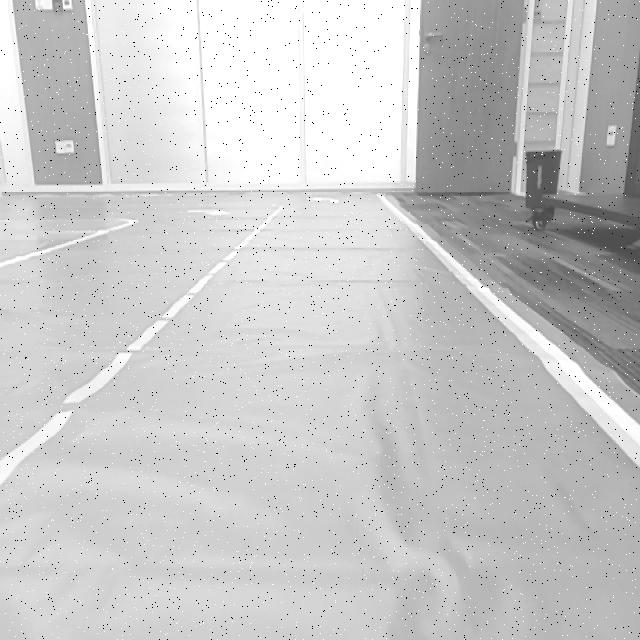left_lane: (0, 212, 276, 484)
right_lane: (392, 210, 640, 469)
